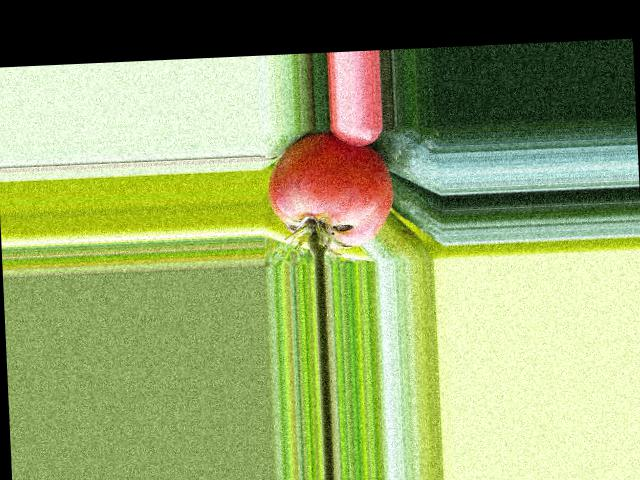tomato: (265, 128, 394, 249)
